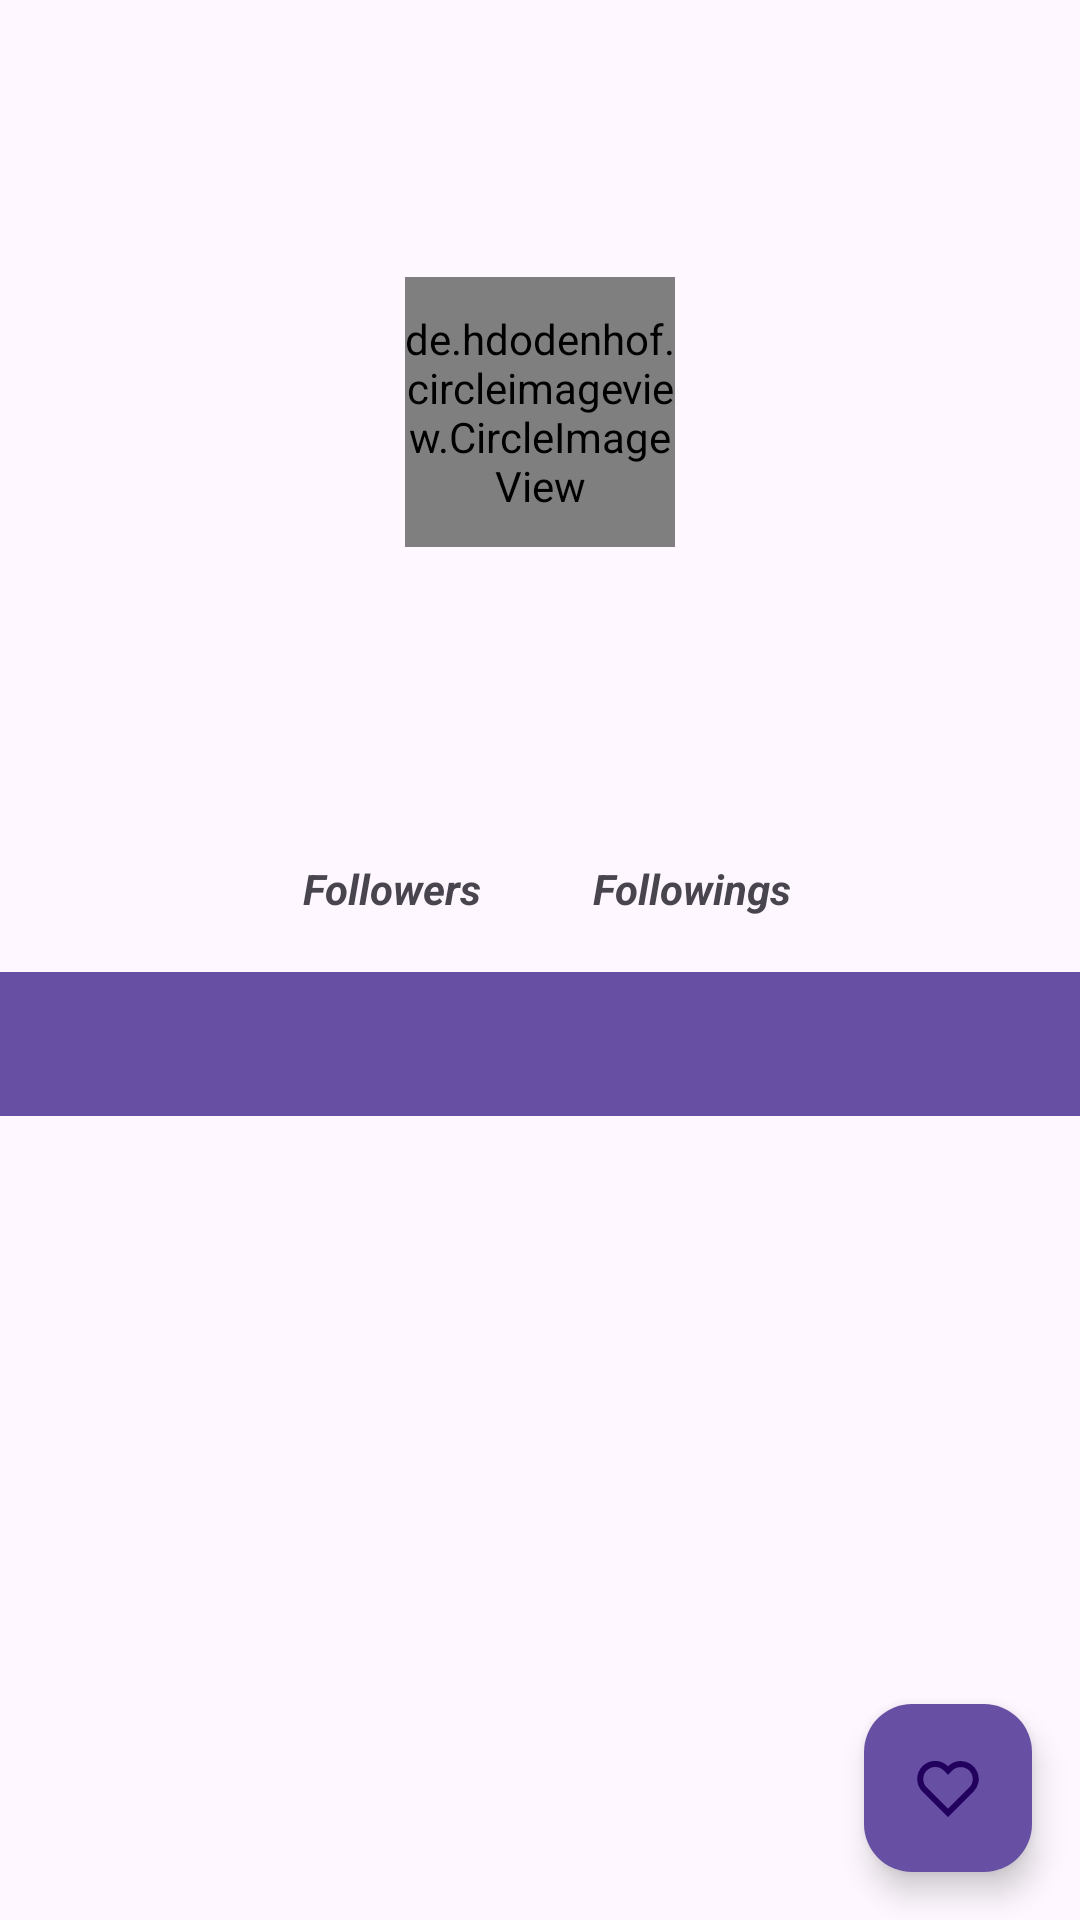

Icons on this 1080*1920 Android screen, each with its box as (x1, y1, x2, y2):
love: (864, 1704, 1032, 1872)
